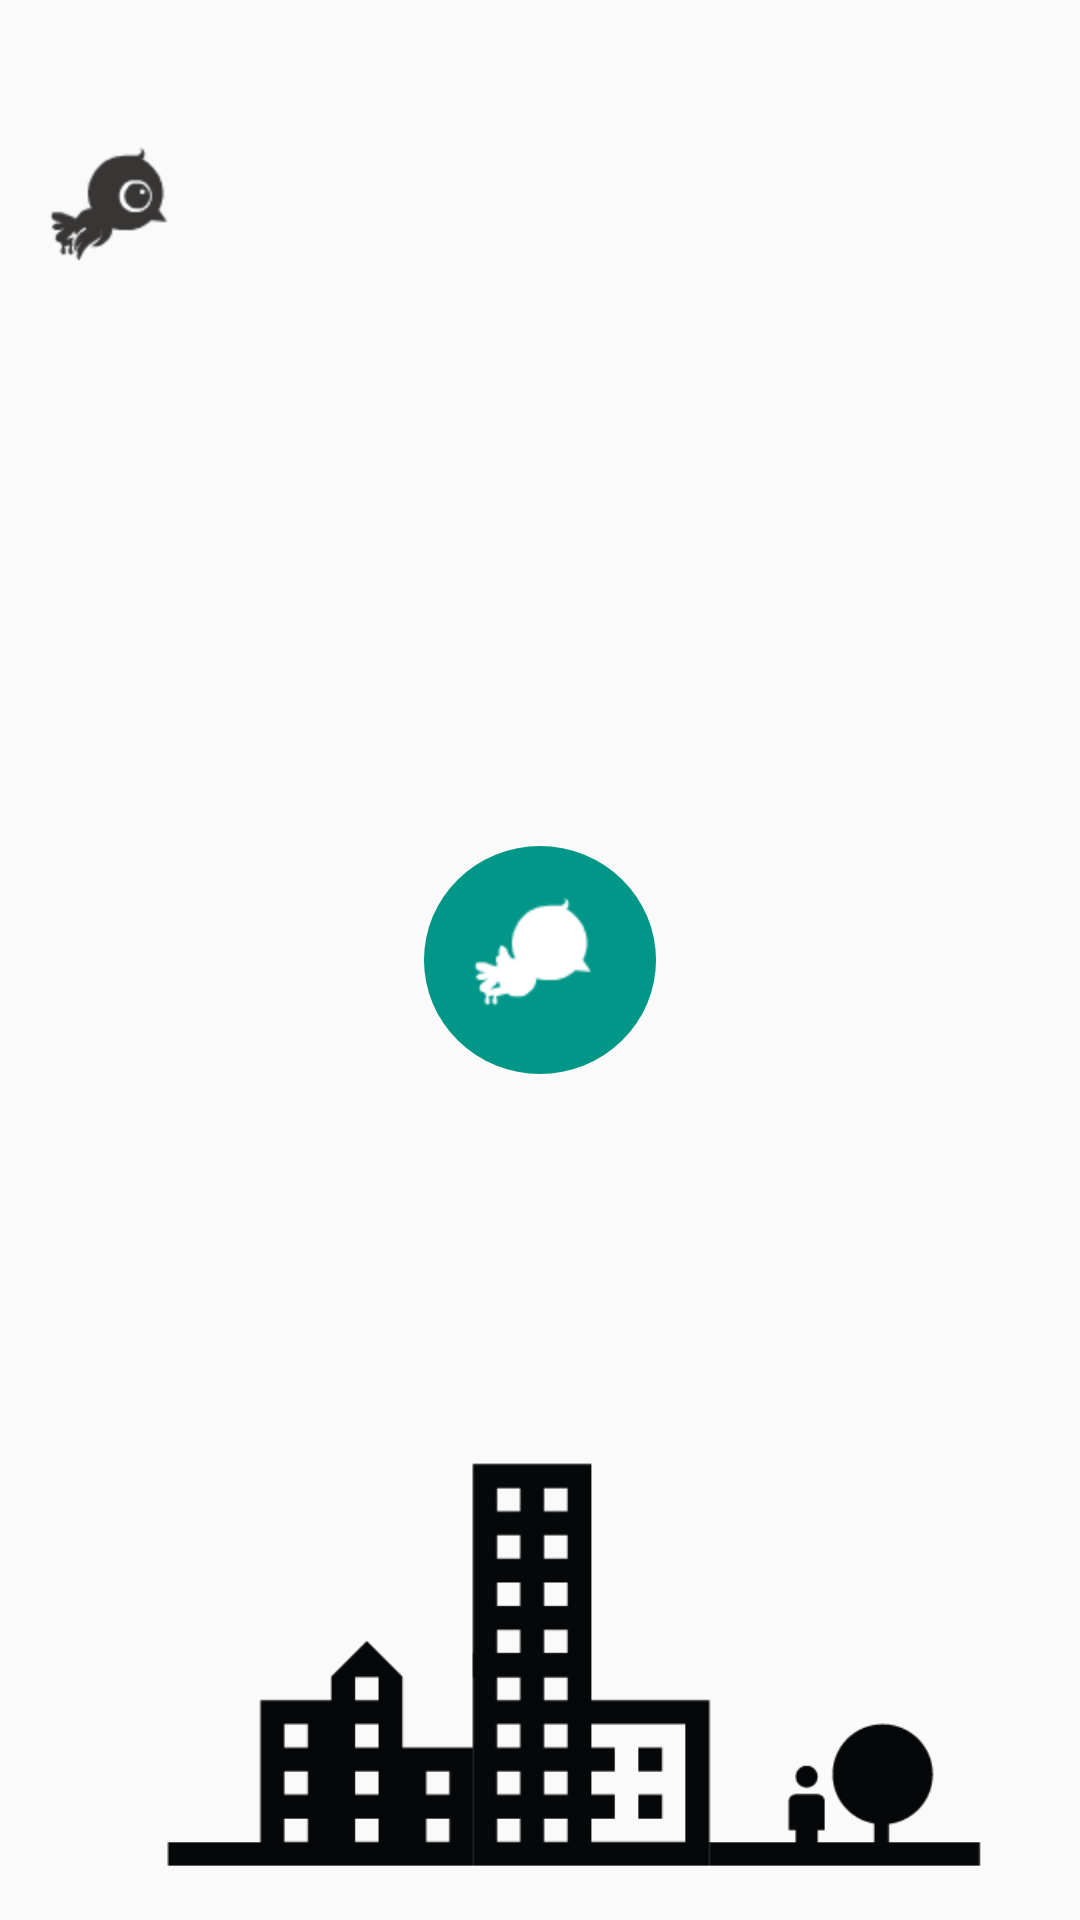

Named icons in this screenshot (1080 x 1920) and their bounding boxes, (x1, y1, x2, y2):
flyingloop: (50, 148, 167, 261), (424, 846, 656, 1074)
